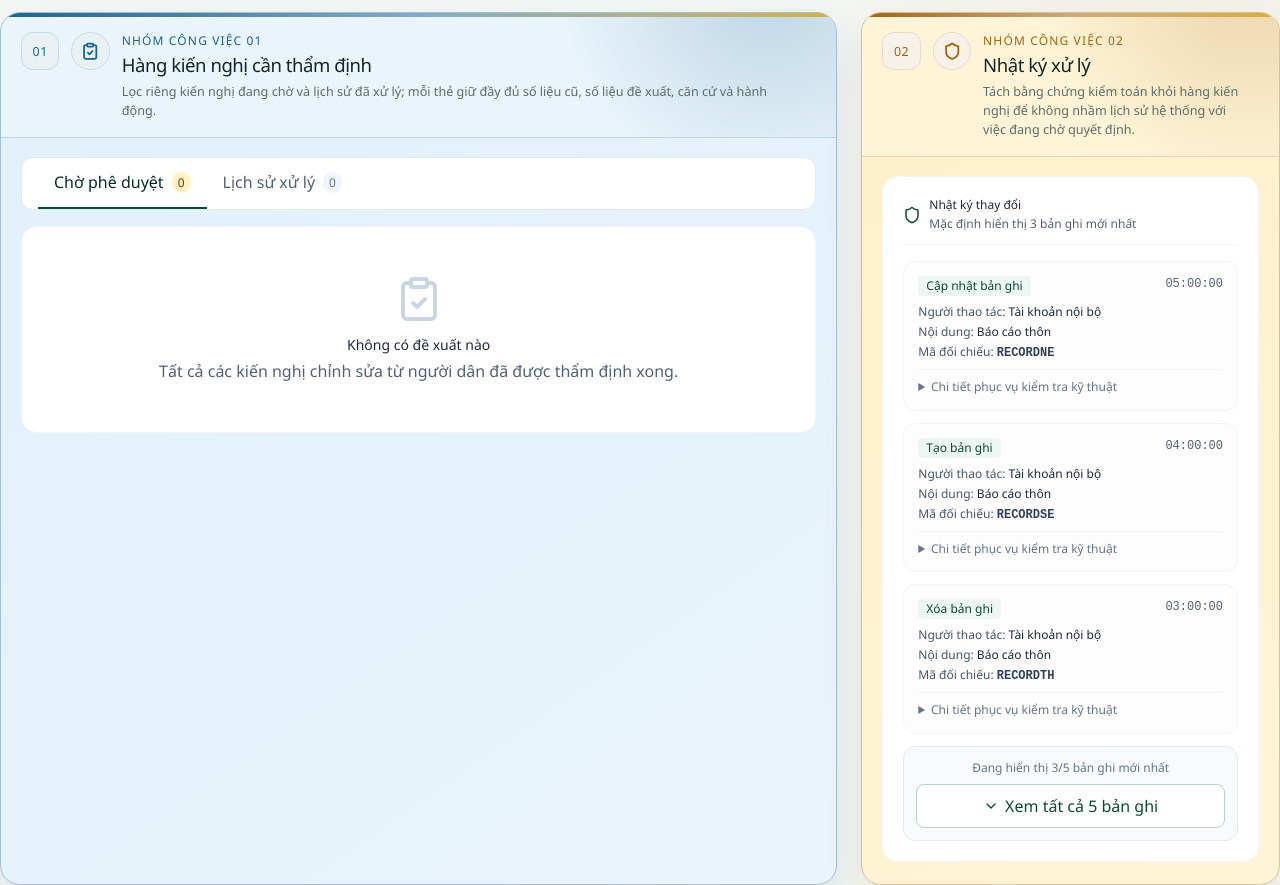
PendingUpdates audit log disclosure › shows only the three newest records until the user expands the log
(page scrolled)
Expected: the text "Cập nhật bản ghi" is shown, left=918, top=276, right=1031, bottom=296
Expected: the text "Tạo bản ghi" is shown, left=918, top=438, right=1001, bottom=458
What coordinates should you click on to do the following:
click the button "Xem tất cả 5 bản ghi"
I would click on:
 (1071, 806)
Its box is left=916, top=784, right=1225, bottom=828.
(page scrolled)
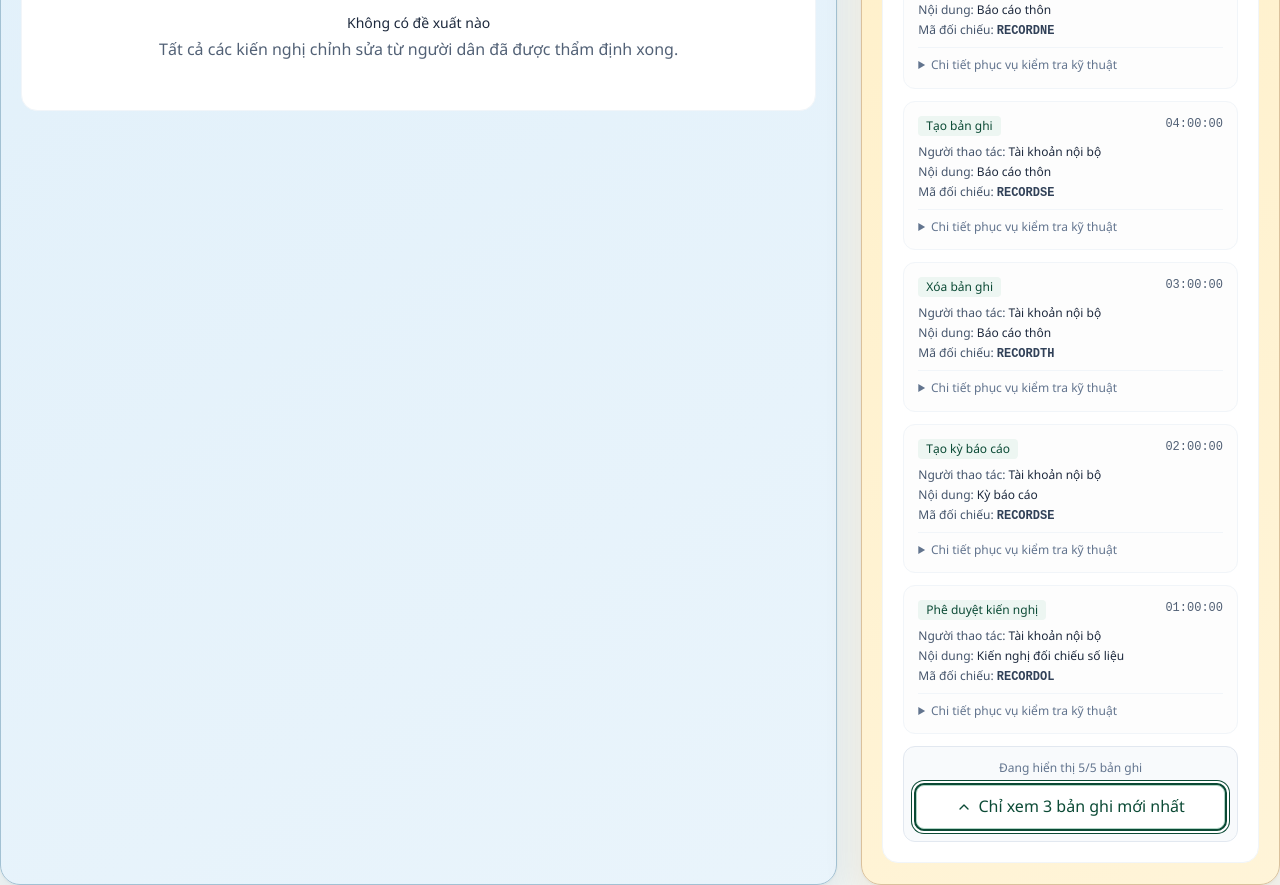
Expected: the text "Tạo kỳ báo cáo" is shown, left=918, top=438, right=1018, bottom=458
Expected: the text "Phê duyệt kiến nghị" is shown, left=918, top=600, right=1046, bottom=620
Expected: the text "Đang hiển thị 5/5 bản ghi" is shown, left=999, top=759, right=1142, bottom=776
What coordinates should you click on to do the following:
click the button "Chỉ xem 3 bản ghi mới nhất"
I would click on:
 (1071, 807)
Its box is left=916, top=785, right=1225, bottom=829.
(page scrolled)
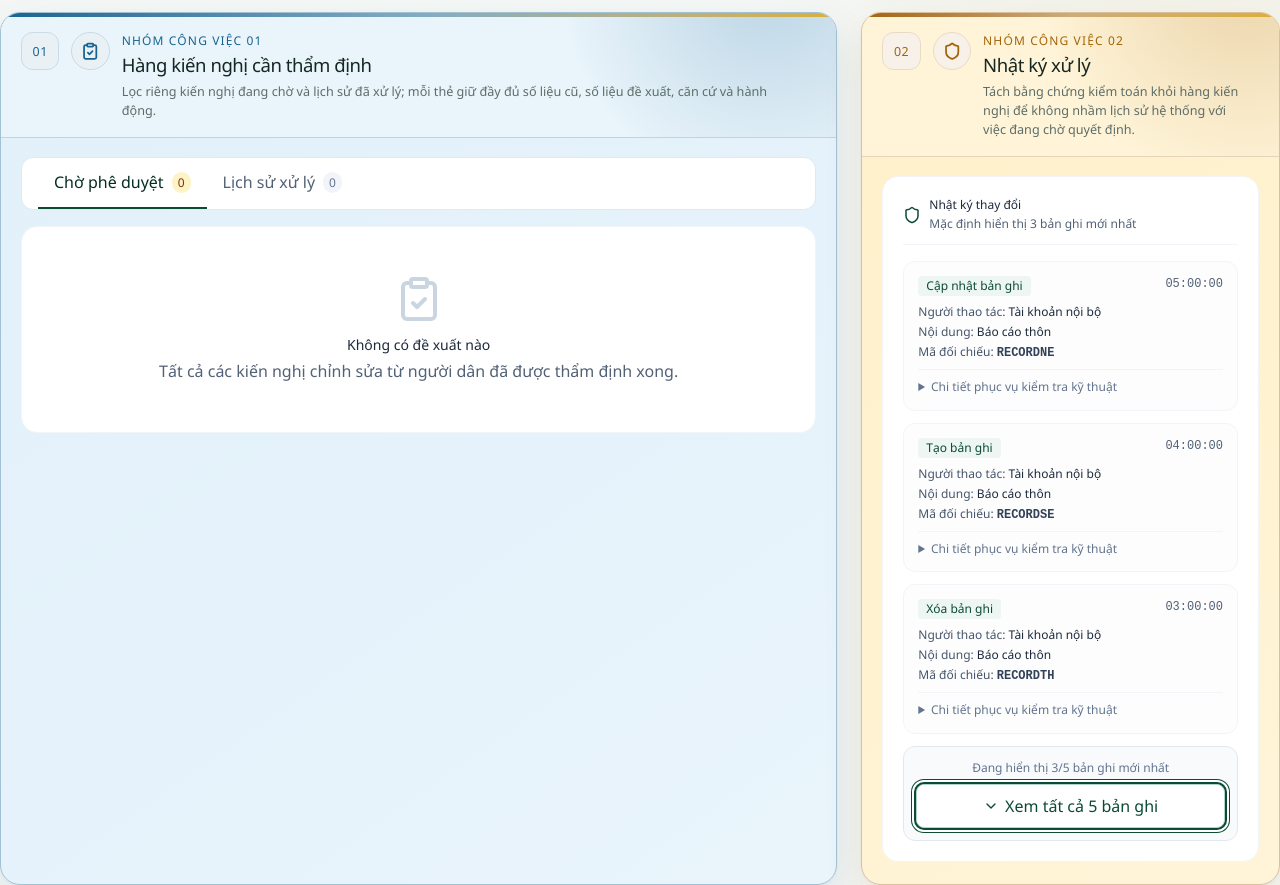
Expected: the text "Tạo kỳ báo cáo" is gone
